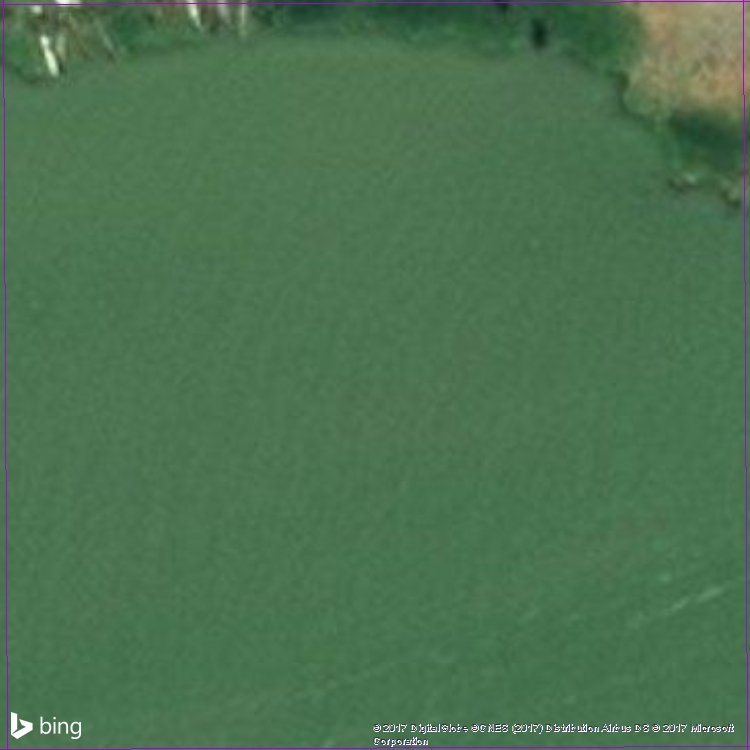boat: (65, 4, 106, 75), (86, 9, 126, 67), (33, 25, 64, 83), (47, 19, 69, 83), (179, 1, 210, 44), (211, 1, 234, 48), (232, 1, 252, 43)
